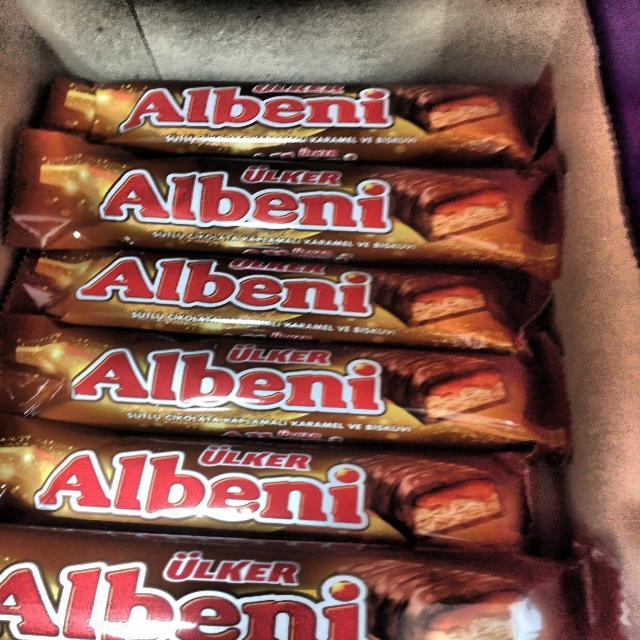Plastic: (0, 321, 600, 469), (0, 426, 595, 568), (2, 233, 560, 375), (0, 141, 596, 269), (45, 76, 564, 188), (0, 553, 638, 640)
